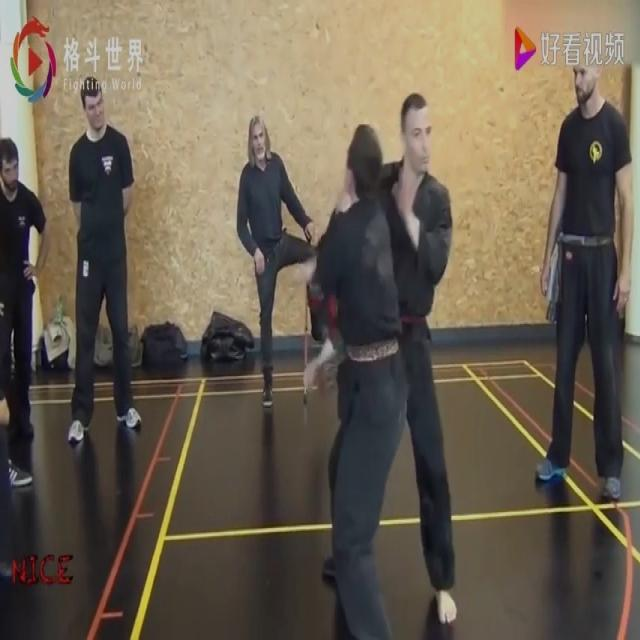fight: (305, 91, 464, 640)
non-fight: (526, 55, 639, 512), (54, 68, 150, 444), (237, 115, 317, 403), (0, 129, 54, 484)
